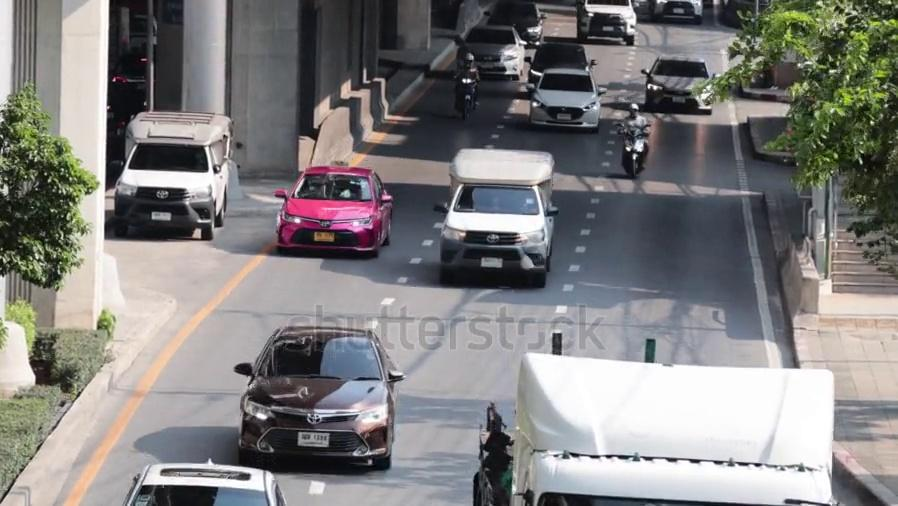rider: (619, 102, 651, 177), (449, 51, 480, 117)
with_helmate: (626, 105, 640, 119), (460, 54, 475, 66)
